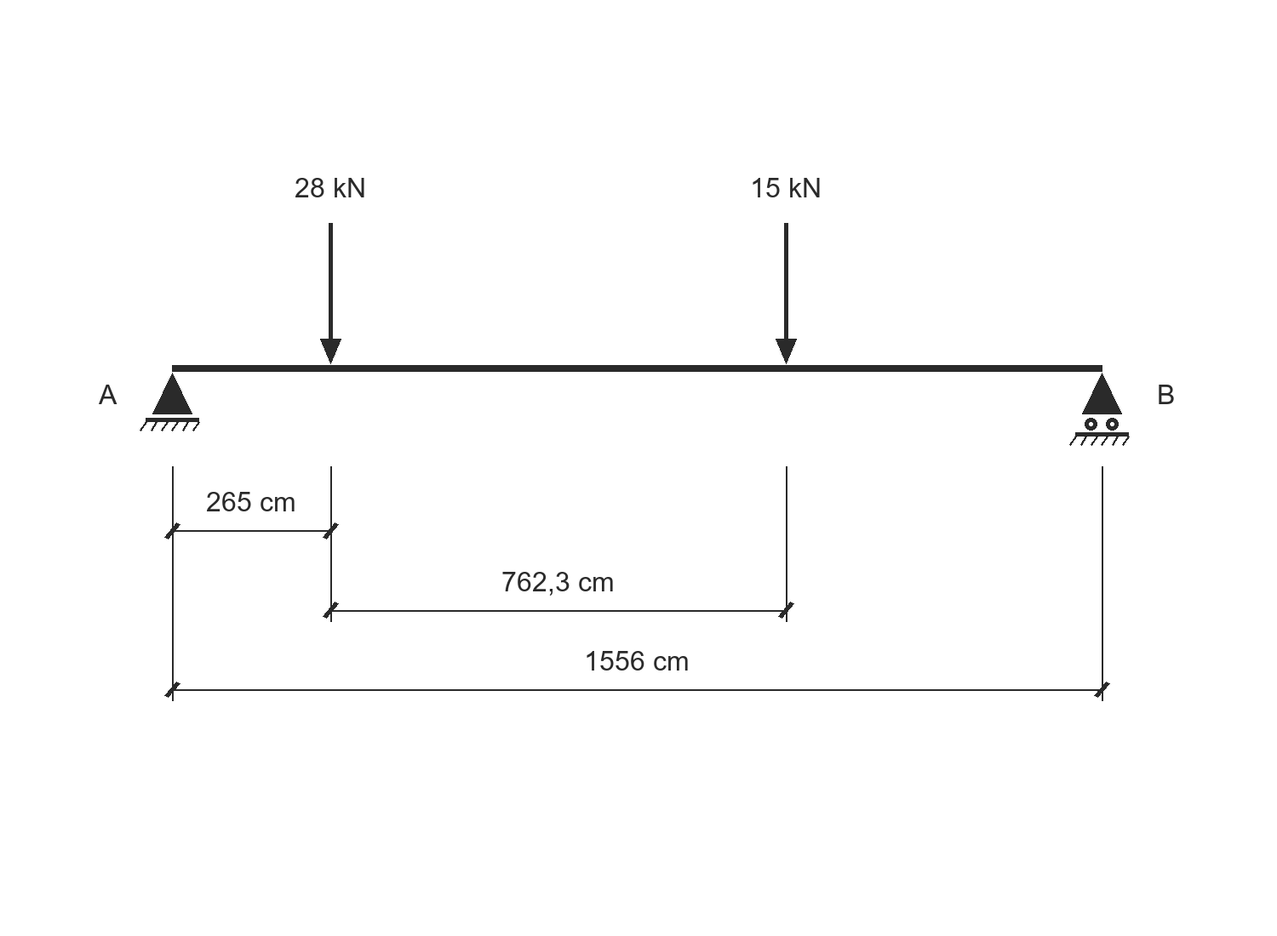pin_support: (140, 373, 200, 431)
point_load: (320, 223, 341, 364), (776, 223, 797, 364)
roller_support: (1069, 373, 1130, 446)
